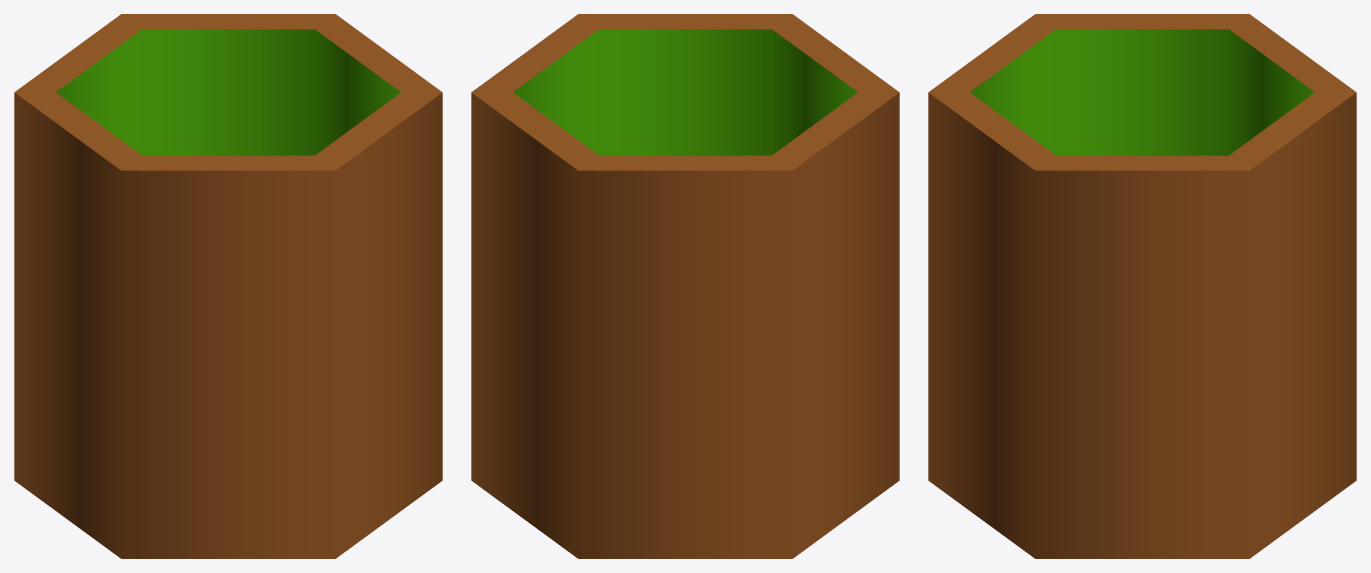
Rendered from cub.fbx.
3 renders of one model, left to right at view 1: azimuth 30°, elevation 25°; view 2: azimuth 150°, elevation 25°; view 3: azimuth 270°, elevation 25°, orthographic.
Visible parts, largest first — view 1: SM_Glass_01; view 2: SM_Glass_01; view 3: SM_Glass_01.
Part boxes in pixels (x1,y1,x2,y2): SM_Glass_01: [14, 14, 442, 558]; SM_Glass_01: [471, 14, 899, 558]; SM_Glass_01: [928, 14, 1356, 558].
Bounding box in the file's own units: 9.1 × 10.51 × 10.51.
